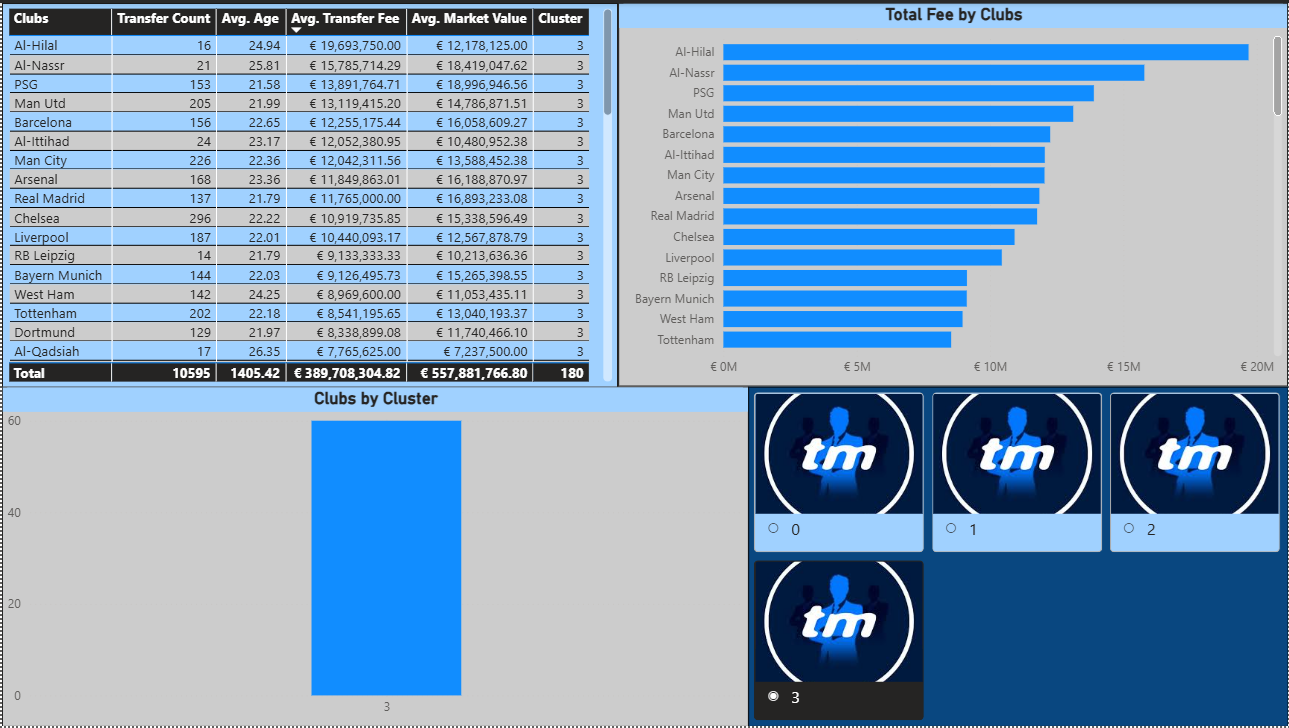

Layout of this report page (visuals, bound fields, positions):
{"tool":"powerbi","page":{"name":"Cluster","canvas":[1280,720],"ordinal":1},"visuals":[{"type":"tableEx","fields":{"Values":["Cluster.to_club_name","Sum(Cluster.transfer_count)","Sum(Cluster.avg_age)","Sum(Cluster.avg_transfer_fee)","Sum(Cluster.avg_market_value)","Sum(Cluster.cluster)"]},"box":[0,0,613.3,383.1],"z":0},{"type":"clusteredColumnChart","title":"Clubs by Cluster","fields":{"Category":["Cluster.cluster"],"Y":["CountNonNull(Cluster.to_club_name)"]},"box":[0,381.4,742.9,338.6],"z":1000},{"type":"clusteredBarChart","title":"Total Fee by Clubs","fields":{"Category":["Cluster.to_club_name"],"Y":["Sum(Cluster.avg_transfer_fee)"]},"box":[613.3,0,666.8,381.9],"z":2000},{"type":"advancedSlicerVisual","fields":{"Values":["Cluster.cluster"]},"box":[742.6,381.9,537.4,338.4],"z":3000}]}

Visuals, with their boxes in screenshot pixels (x1, y1, x2, y2), scaled from the page's 1280x720 canvas onto the 1289x728 screenshot:
tableEx - Cluster.to_club_name x Sum(Cluster.transfer_count): [0, 0, 618, 387]
"Clubs by Cluster" clusteredColumnChart: [0, 386, 748, 727]
"Total Fee by Clubs" clusteredBarChart: [618, 0, 1288, 386]
advancedSlicerVisual - Cluster.cluster: [748, 386, 1288, 727]
